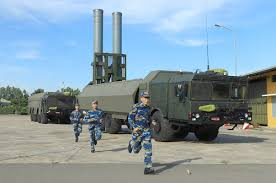ten_lua: (86, 8, 106, 83), (112, 10, 127, 83)
